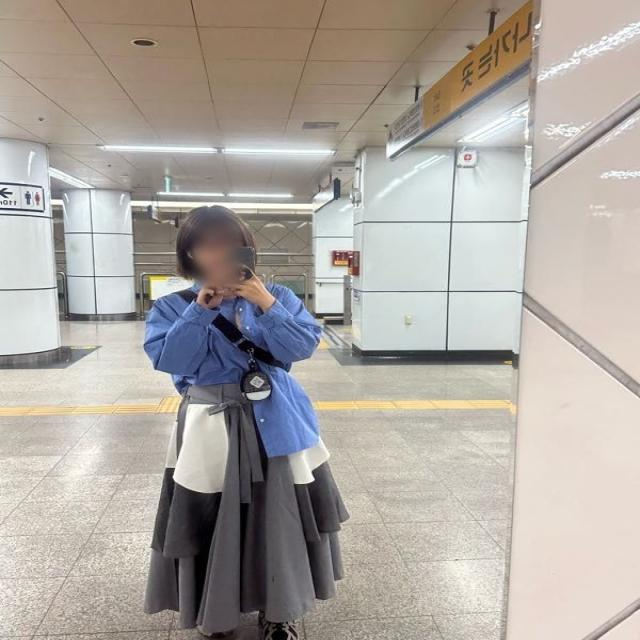shirt: (143, 289, 320, 456)
skirt: (148, 377, 348, 627)
